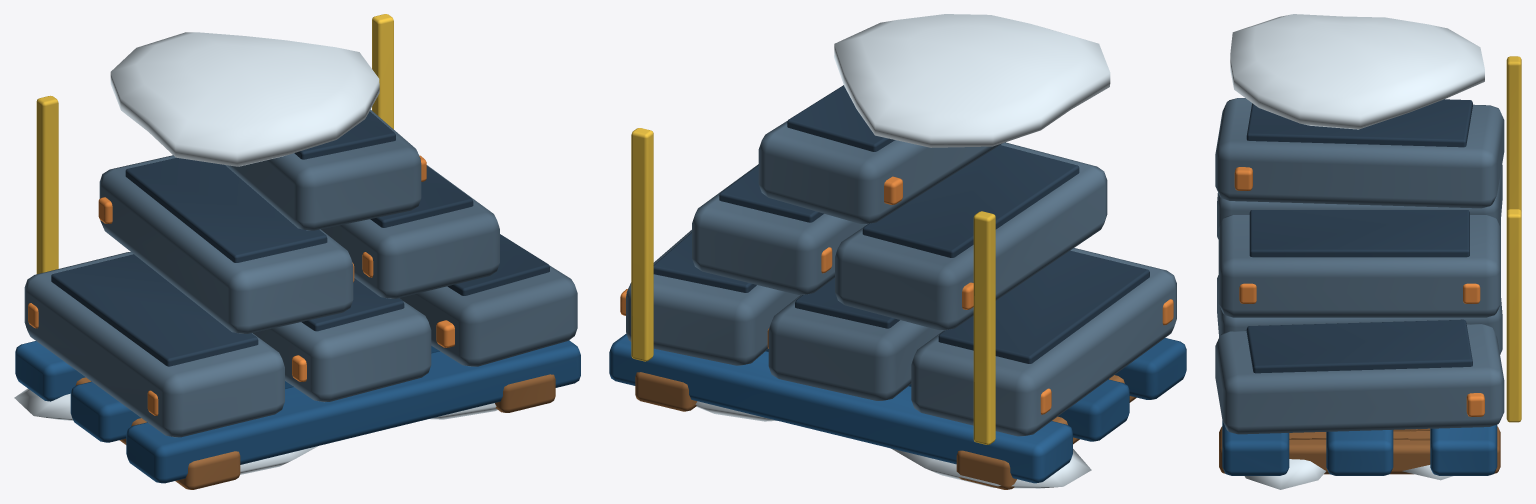
Rendered from metal_stack.glb.
3 views of the same model, side by side, from view 1: azimuth 30°, elevation 25°; view 2: azimuth 150°, elevation 25°; view 3: azimuth 270°, elevation 25° (orthographic). The views are drawn at different scales.
Parts seen in each view (by area): view 1: metal_stack; view 2: metal_stack; view 3: metal_stack.
Part boxes in pixels (x1,y1,x2,y2): metal_stack: (14, 14, 580, 489); metal_stack: (609, 14, 1186, 489); metal_stack: (1215, 14, 1521, 489).
Bounding box in the file's own units: 1.49 × 1.12 × 0.9322.
